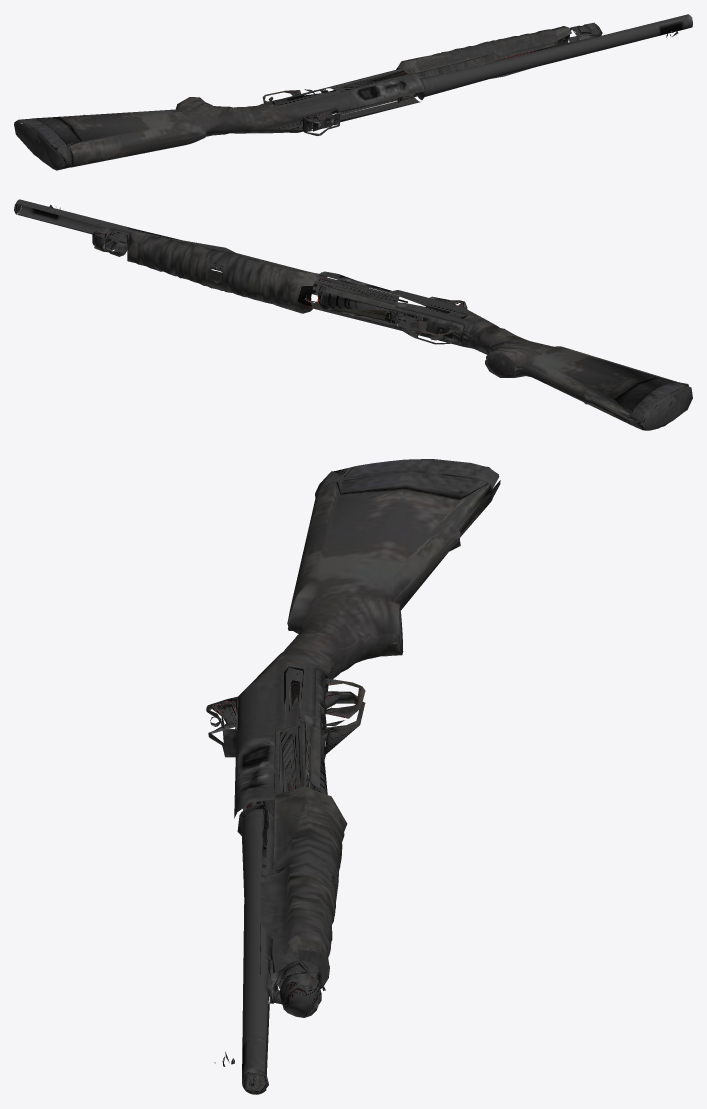
3 renders of one model, top to bottom at view 1: azimuth 30°, elevation 25°; view 2: azimuth 150°, elevation 25°; view 3: azimuth 270°, elevation 25°, orthographic. The views are drawn at different scales.
Parts seen in each view (by area): view 1: p_m3; view 2: p_m3; view 3: p_m3.
Part boxes in pixels (bbox=[...]): p_m3: bbox=[14, 14, 692, 170]; p_m3: bbox=[14, 199, 692, 430]; p_m3: bbox=[206, 459, 500, 1094].
Size of the model in its own units: 1.34 by 0.0707 by 0.2758.
1 material, 1 textured.
